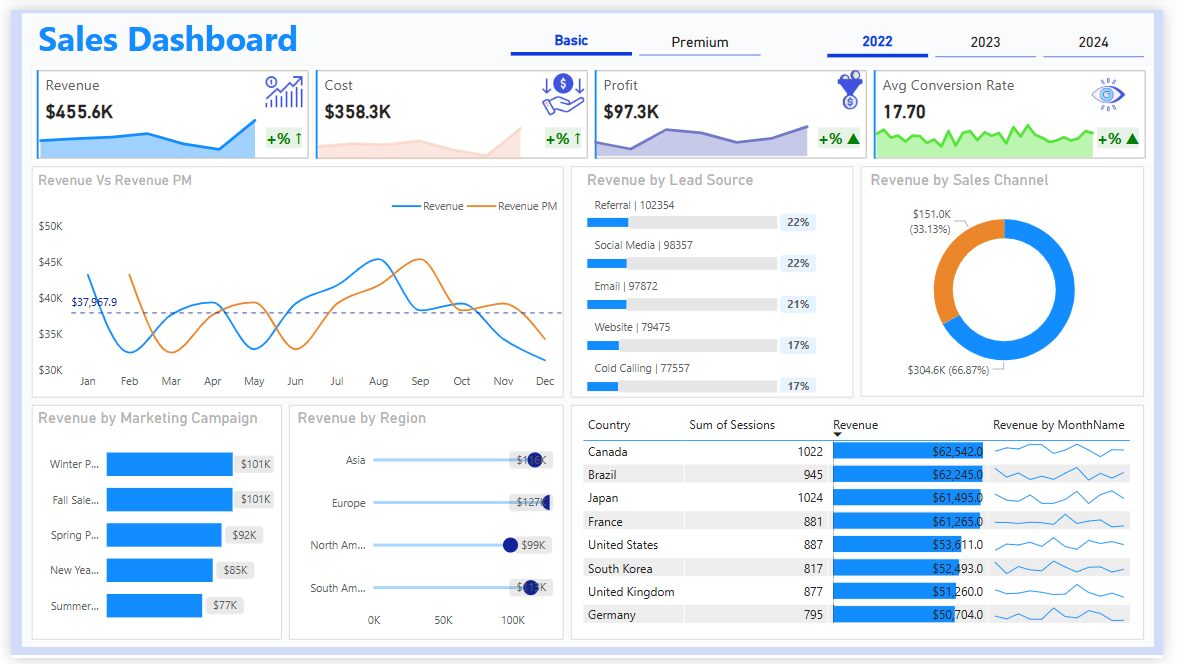

The dashboard page shown, as its layout file describes it:
{"tool":"powerbi","page":{"name":"Dashboard","canvas":[1280,720],"ordinal":0},"visuals":[{"type":"advancedSlicerVisual","fields":{"Values":["calendar.Year"]},"box":[901.9,12.7,362.7,44.5],"z":0},{"type":"cardVisual","fields":{"Data":["All Calculation.Revenue","All Calculation.Cost","All Calculation.Profit","All Calculation.Avg Conversion Rate"]},"box":[23.3,61.7,1245,108.3],"z":1000},{"type":"lineChart","title":"Revenue Vs Revenue PM ","fields":{"Y":["All Calculation.Revenue","All Calculation.Revenue PM"],"Category":["calendar.MonthName"]},"box":[20,170,596.7,260],"z":2000},{"type":"clusteredBarChart","title":"Revenue by Lead Source","fields":{"Category":["dim_Lead_Source.Lead Source"],"Y":["All Calculation.Base Zero","All Calculation.Rev % Of Lead","All Calculation.whole number"]},"box":[635,178.3,301.7,251.7],"z":3000},{"type":"clusteredBarChart","fields":{"Category":["dim_Campaign.Marketing Campaign"],"Y":["All Calculation.Revenue"]},"box":[25,443.3,271.7,253.3],"z":4000},{"type":"donutChart","fields":{"Y":["All Calculation.Revenue"],"Category":["dim_Sales_channel.Sales Channel"]},"box":[950,178.3,306.7,245],"z":5000},{"type":"clusteredBarChart","title":"Revenue  by Region","fields":{"Y":["All Calculation.Blank1","All Calculation.Revenue","All Calculation.Blank2"],"Category":["dim_Location.Region"]},"box":[313.4,443.8,303.8,252.9],"z":6000},{"type":"tableEx","fields":{"Values":["dim_Location.Country","Sum(Fuct_sales.Sessions)","All Calculation.Revenue","SparklineData(All Calculation.Revenue_[calendar.MonthName])"]},"box":[629.9,445.4,621.9,252.9],"z":7000},{"type":"image","box":[582.2,62,63.6,63.6],"z":8000},{"type":"image","box":[1181.8,68.4,74.8,50.9],"z":9000},{"type":"image","box":[267.2,62,73.2,57.3],"z":10000},{"type":"image","box":[905.1,60.4,54.1,57.3],"z":11000},{"type":"areaChart","fields":{"Category":["calendar.DayName"],"Y":["All Calculation.Revenue"]},"box":[11.1,106.6,279.9,62],"z":12000},{"type":"areaChart","fields":{"Category":["calendar.DayName"],"Y":["All Calculation.Profit"]},"box":[628.3,105,276.8,62],"z":13000},{"type":"areaChart","fields":{"Category":["calendar.DayName"],"Y":["All Calculation.Cost"]},"box":[321.3,108.2,264,62],"z":14000},{"type":"areaChart","fields":{"Category":["calendar.Day"],"Y":["All Calculation.Avg Conversion Rate"]},"box":[938.5,105,310.2,63.6],"z":15000},{"type":"advancedSlicerVisual","fields":{"Values":["dim_CustomerPlan.Customer Plan"]},"box":[550.4,12.7,289.5,42.9],"z":16000},{"type":"textbox","box":[25.4,0,356.3,68.4],"z":17000}]}

Visuals, with their boxes in screenshot pixels (x1, y1, x2, y2), scaled from the page's 1280x720 canvas onto the 1178x664 screenshot:
advancedSlicerVisual - calendar.Year: <bbox>830, 12, 1164, 53</bbox>
cardVisual - All Calculation.Revenue x All Calculation.Cost: <bbox>21, 57, 1167, 157</bbox>
"Revenue Vs Revenue PM " lineChart: <bbox>18, 157, 568, 397</bbox>
"Revenue by Lead Source" clusteredBarChart: <bbox>584, 164, 862, 397</bbox>
clusteredBarChart - dim_Campaign.Marketing Campaign x All Calculation.Revenue: <bbox>23, 409, 273, 642</bbox>
donutChart - All Calculation.Revenue x dim_Sales_channel.Sales Channel: <bbox>874, 164, 1157, 390</bbox>
"Revenue  by Region" clusteredBarChart: <bbox>288, 409, 568, 643</bbox>
tableEx - dim_Location.Country x Sum(Fuct_sales.Sessions): <bbox>580, 411, 1152, 644</bbox>
image: <bbox>536, 57, 594, 116</bbox>
image: <bbox>1088, 63, 1156, 110</bbox>
image: <bbox>246, 57, 313, 110</bbox>
image: <bbox>833, 56, 883, 109</bbox>
areaChart - calendar.DayName x All Calculation.Revenue: <bbox>10, 98, 268, 155</bbox>
areaChart - calendar.DayName x All Calculation.Profit: <bbox>578, 97, 833, 154</bbox>
areaChart - calendar.DayName x All Calculation.Cost: <bbox>296, 100, 539, 157</bbox>
areaChart - calendar.Day x All Calculation.Avg Conversion Rate: <bbox>864, 97, 1149, 155</bbox>
advancedSlicerVisual - dim_CustomerPlan.Customer Plan: <bbox>507, 12, 773, 51</bbox>
textbox: <bbox>23, 0, 351, 63</bbox>
